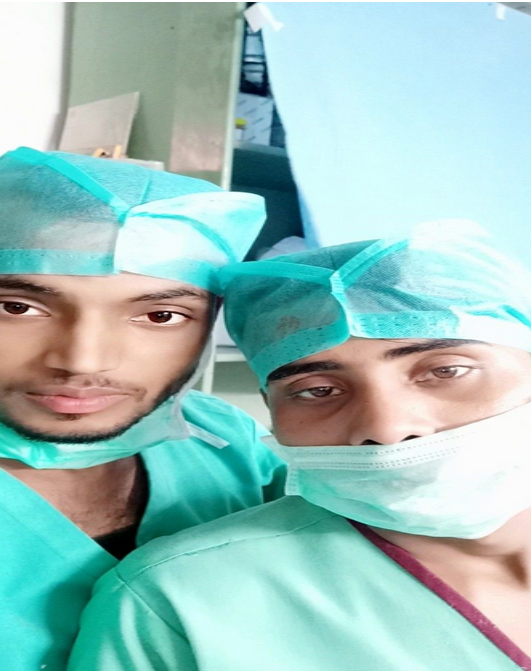mask_weared_incorrect: (219, 216, 531, 543)
